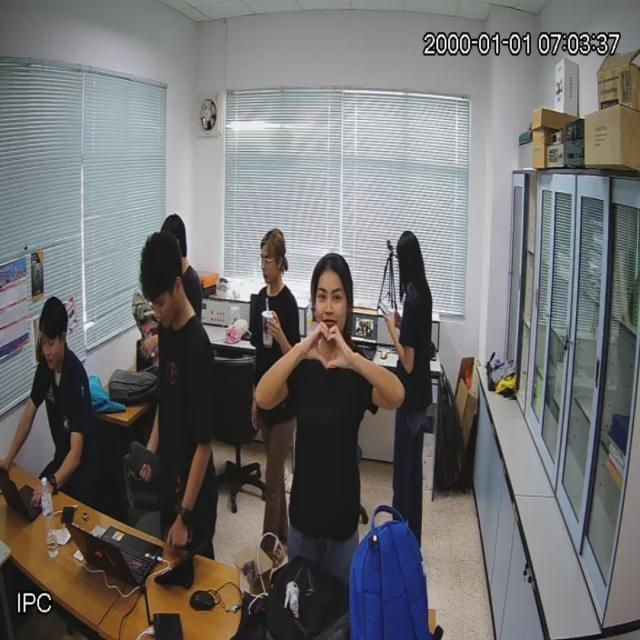normal: (134, 230, 224, 566), (244, 219, 300, 551), (32, 288, 108, 516), (389, 224, 434, 558)
